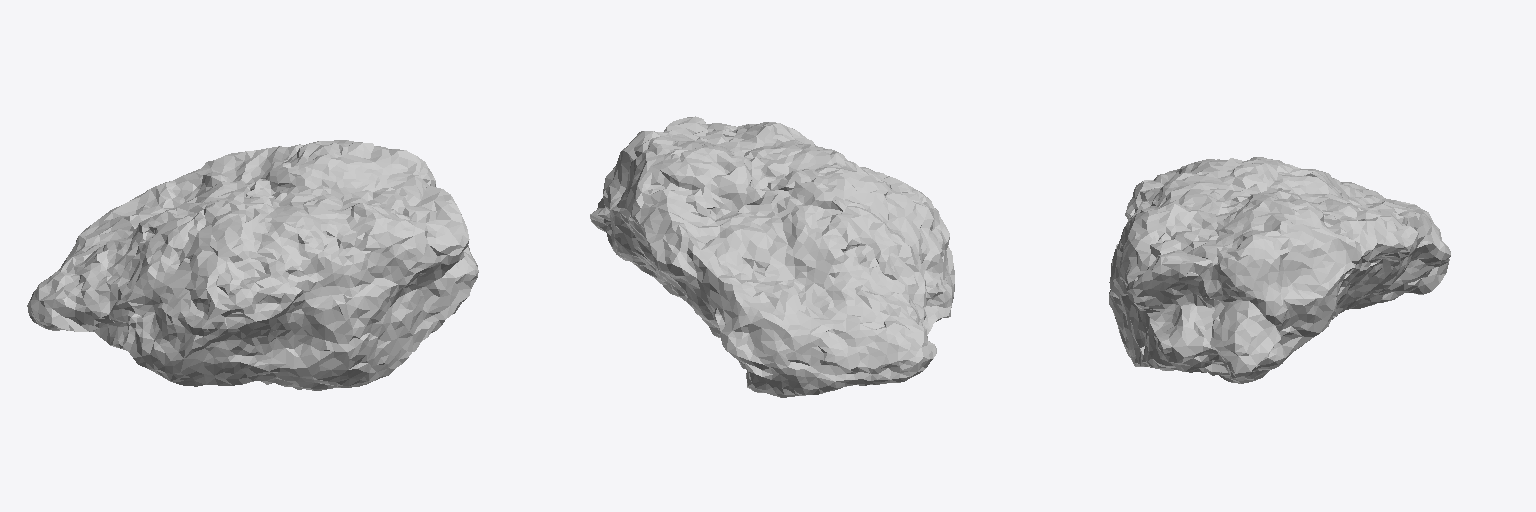
The model's file is moss rock 13.obj.
The picture shows the model from 3 angles: view 1: azimuth 30°, elevation 25°; view 2: azimuth 150°, elevation 25°; view 3: azimuth 270°, elevation 25°; orthographic projection.
Size of the model in its own units: 2.31 by 1.03 by 1.79.